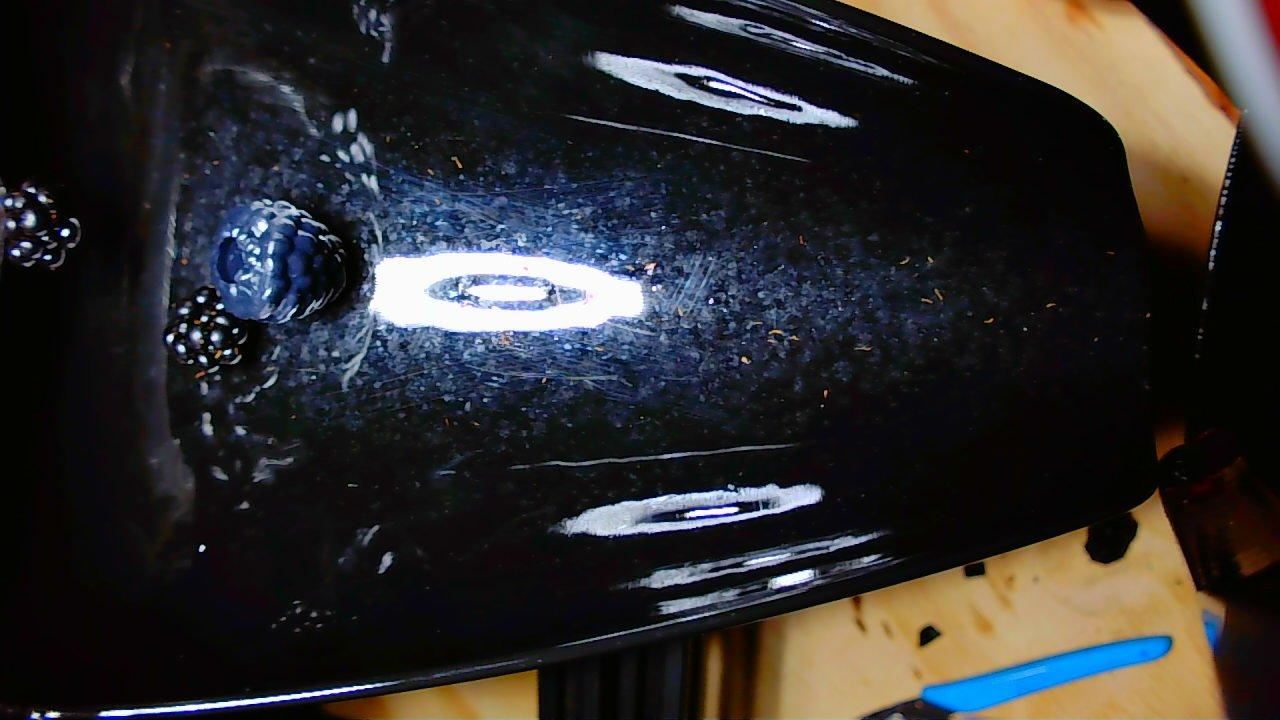berry: (210, 199, 346, 323), (164, 286, 248, 376), (0, 182, 78, 269)
